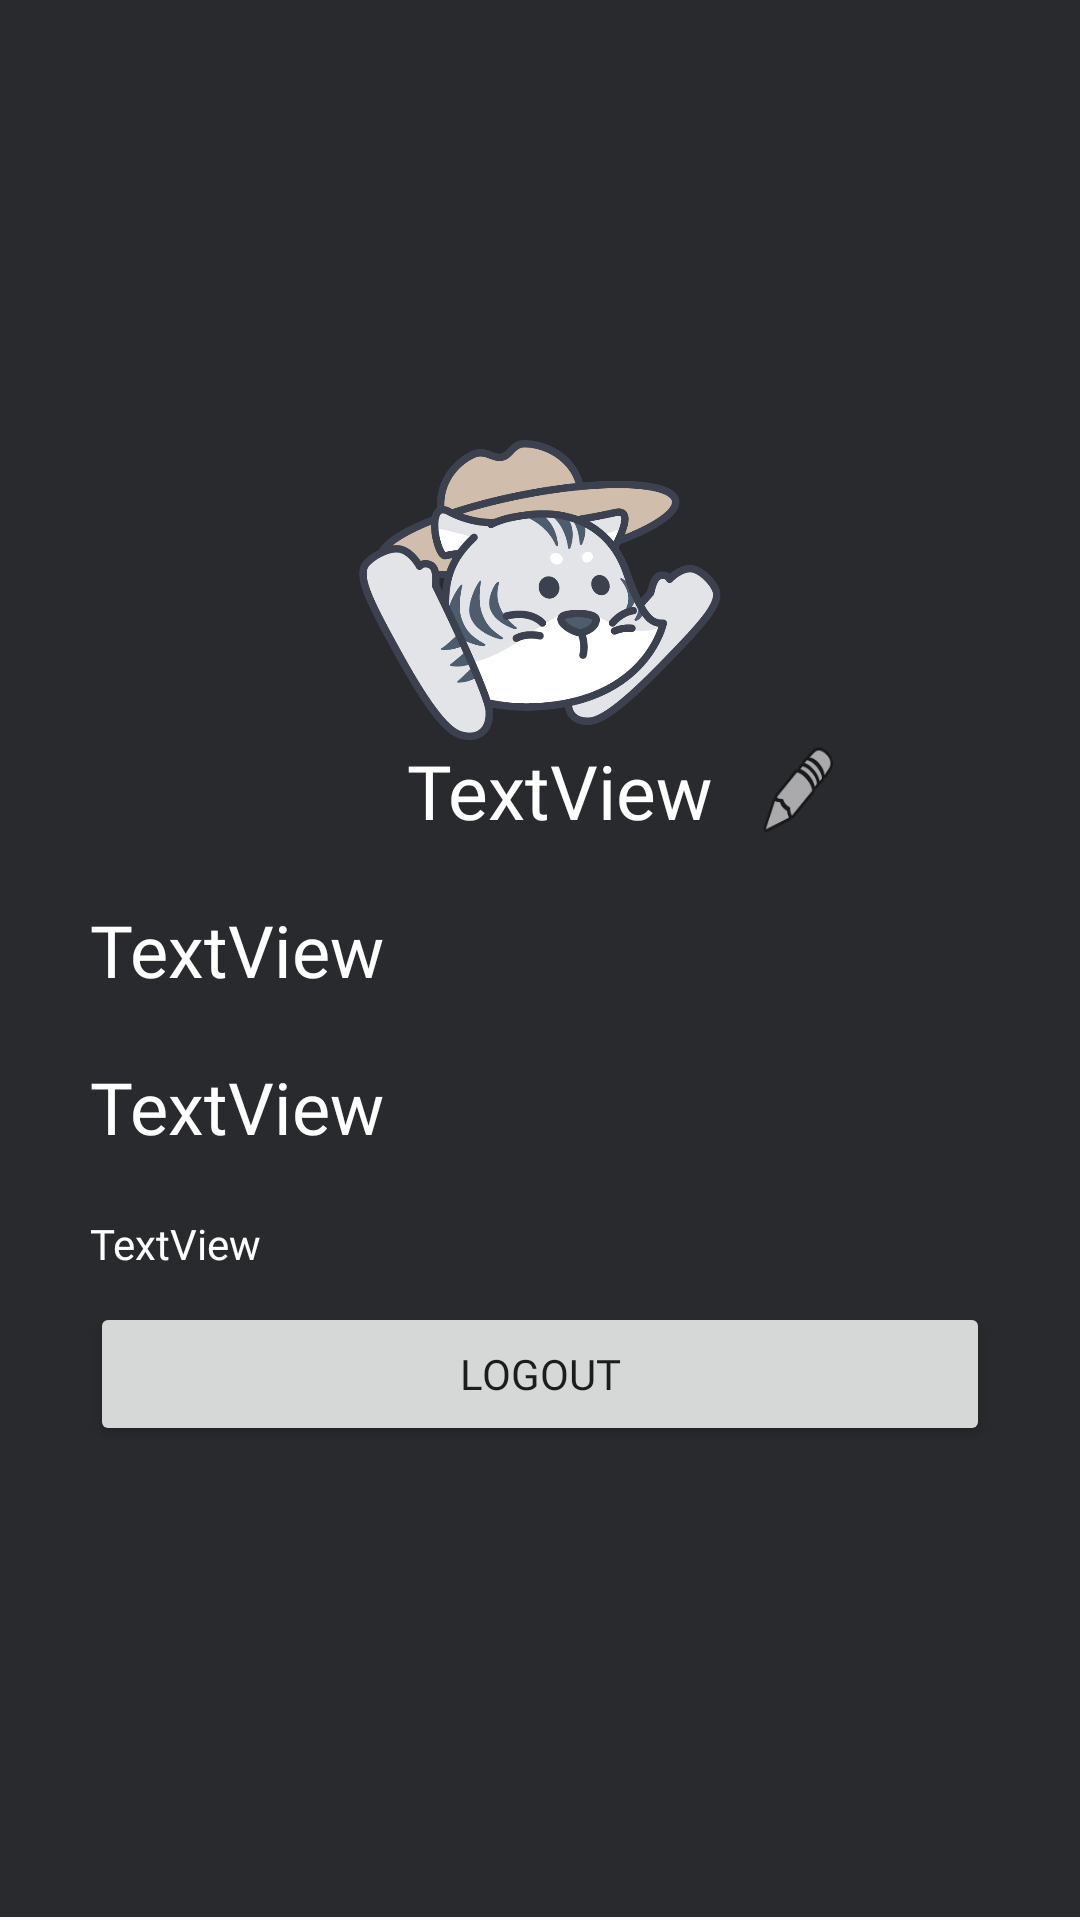

Point at icon controls on the screen. Image size 1080 × 1920, points as (x=x, y=y).
edit: (x=798, y=789)
